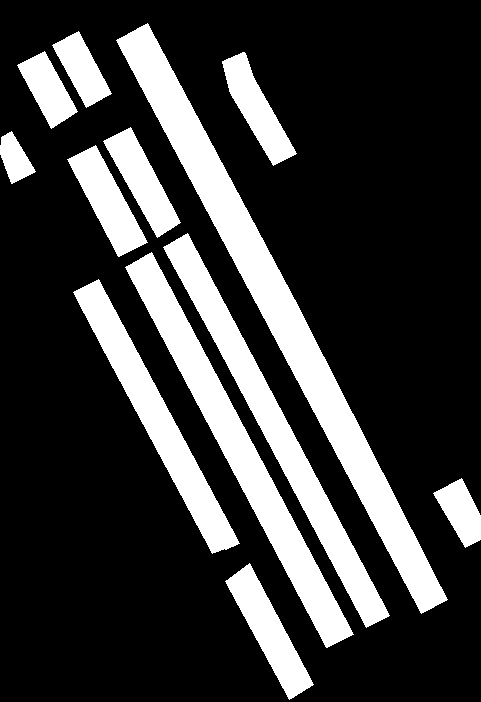parkingspot: (116, 23, 447, 613), (125, 252, 353, 647), (163, 233, 389, 627), (73, 279, 239, 553), (225, 563, 313, 699), (67, 145, 147, 256), (103, 127, 180, 237), (222, 52, 296, 165), (17, 51, 77, 128), (52, 31, 111, 107), (433, 478, 481, 547), (0, 131, 35, 183)
